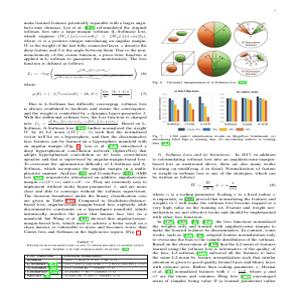diagram: (153, 20, 275, 79), (153, 88, 276, 133)
table: (22, 251, 151, 284)
text: (19, 19, 149, 239), (152, 134, 278, 284)
